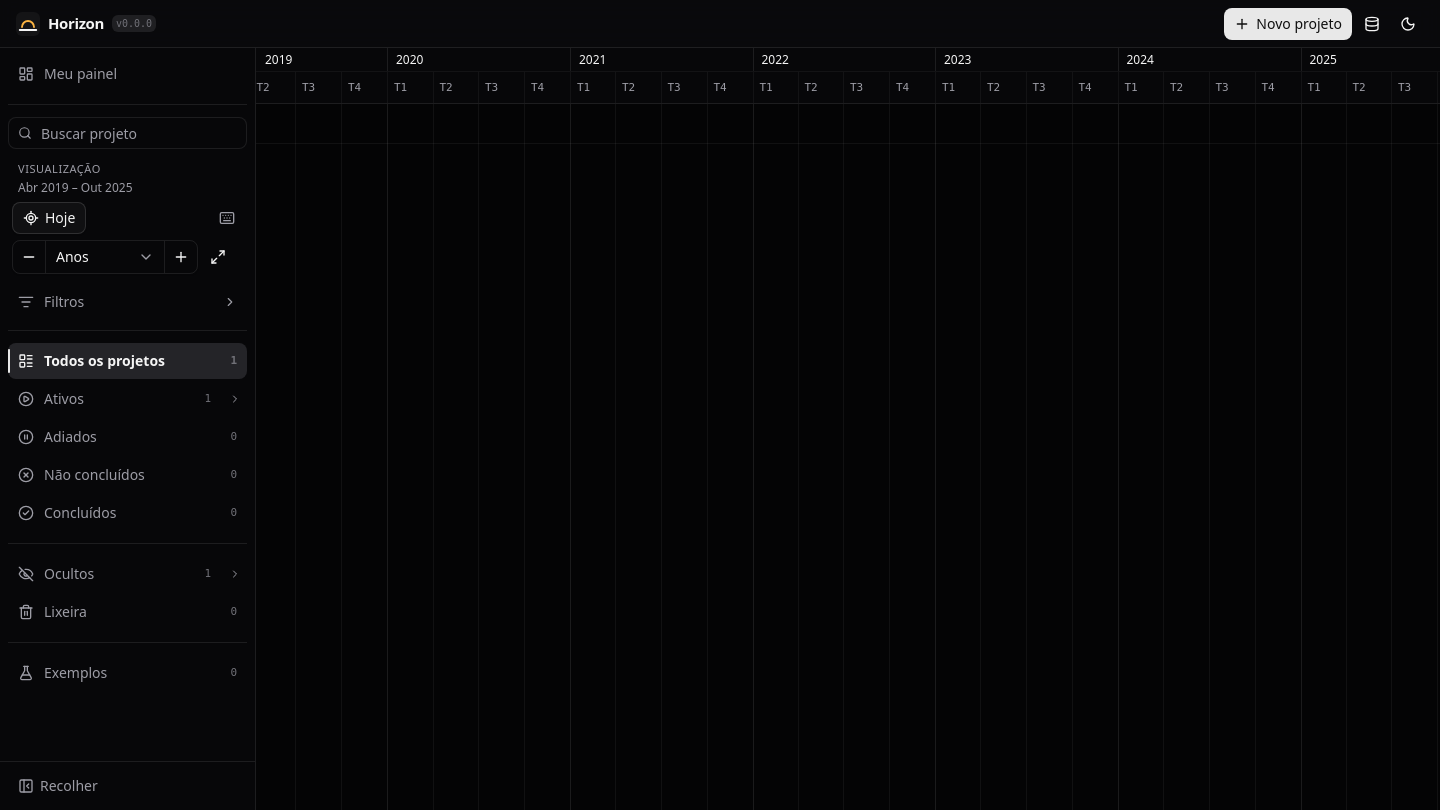
Test case: visibility and trash flows › keeps the filters to visible projects
Step 1. Click the button "Filtros" → (128, 302), box [8,286,247,318]
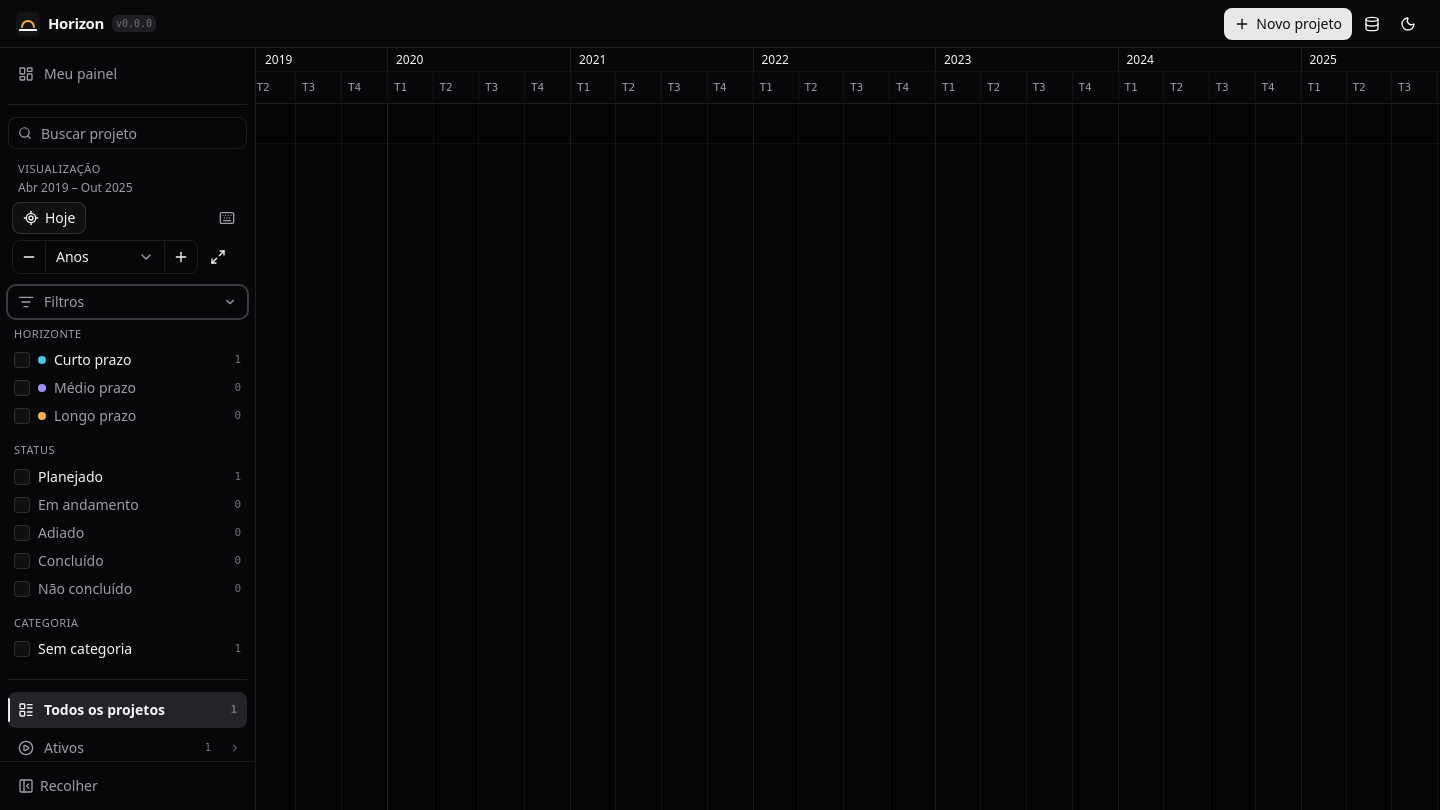
expect the checkbox named "Concluído, 0 projetos" is shown: met, box [14,552,30,568]
